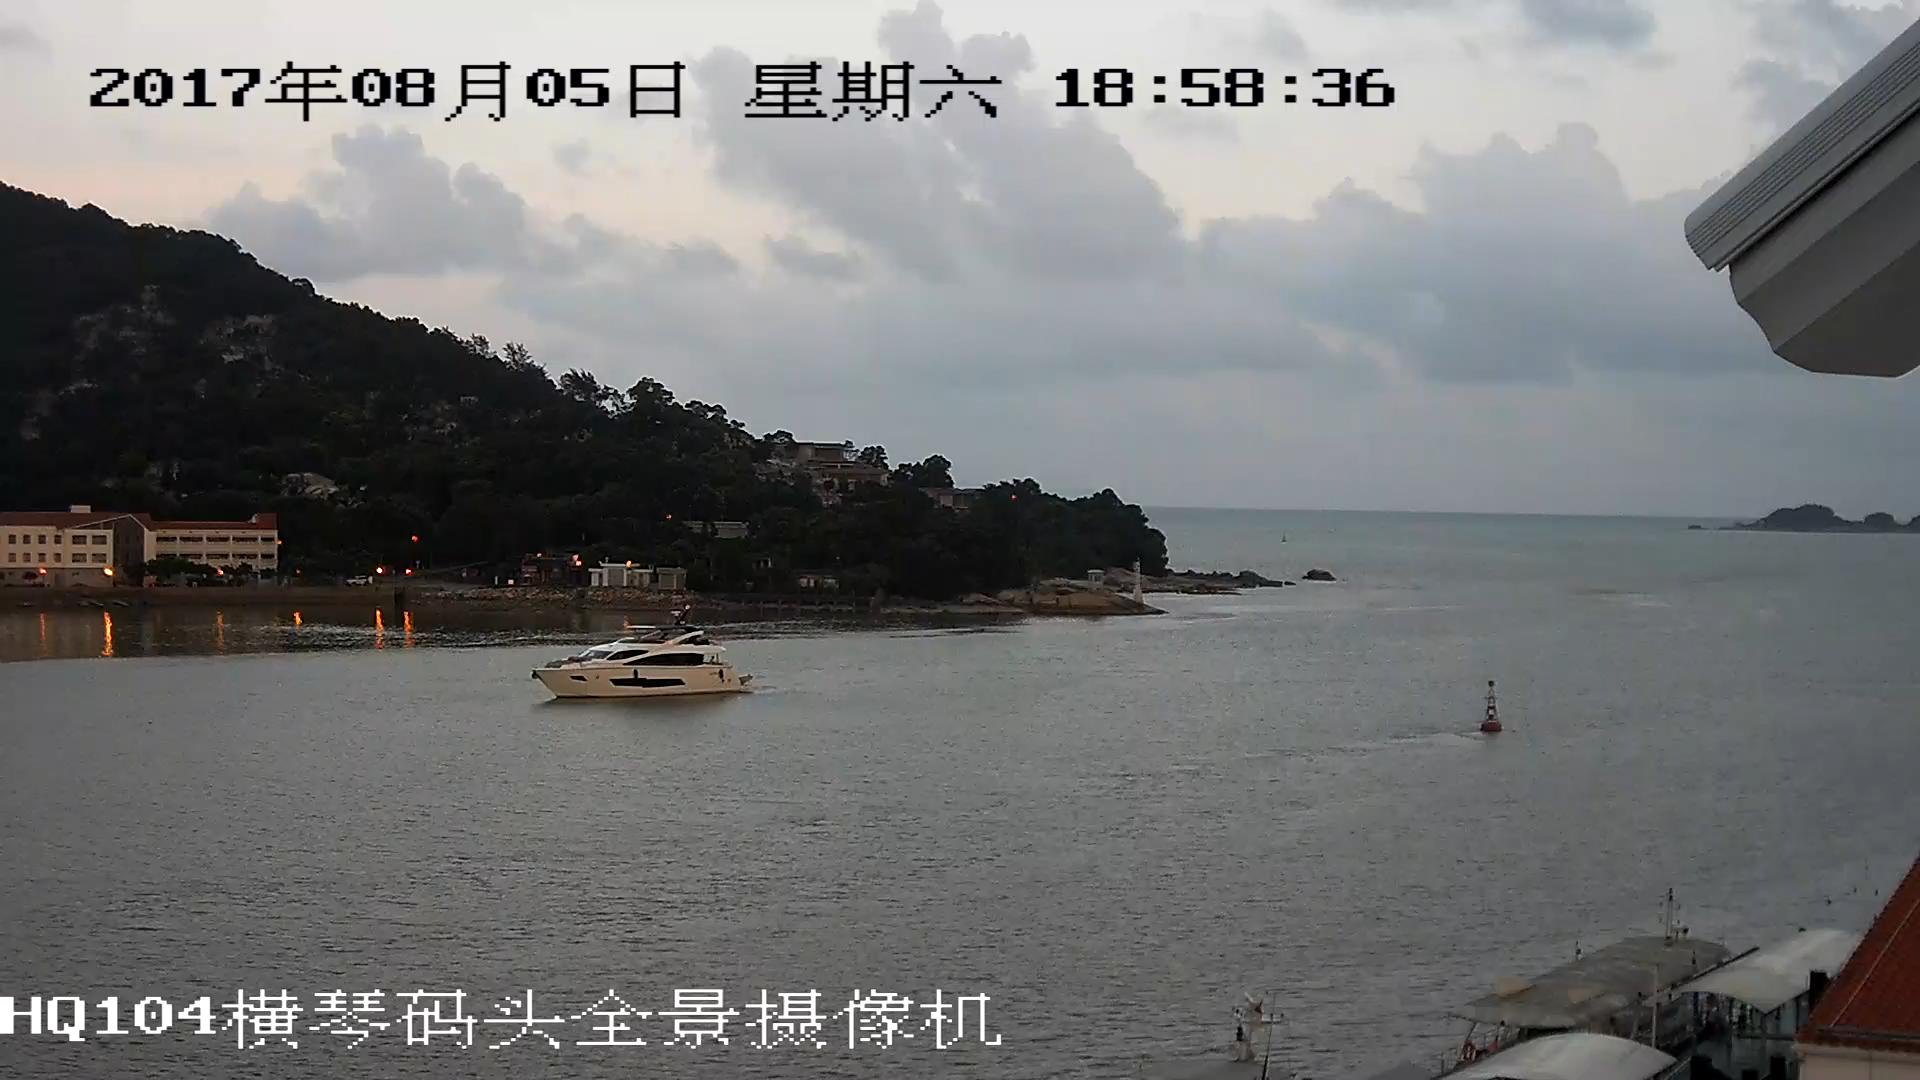passenger ship: (531, 617, 748, 701)
